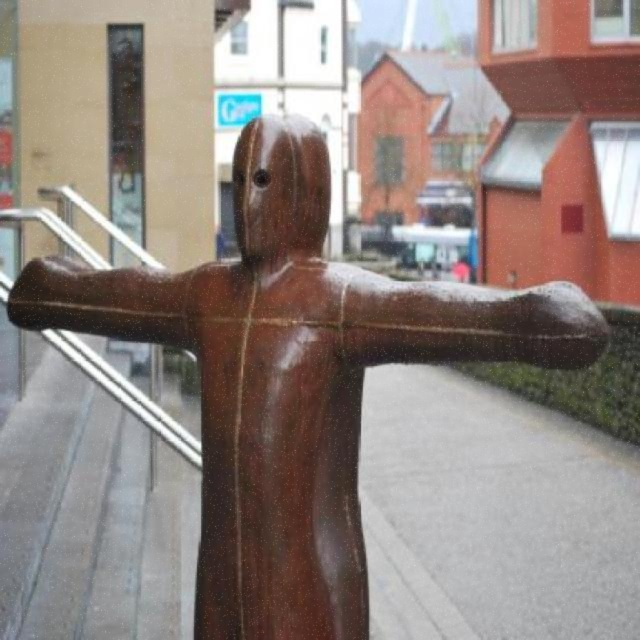stair: (0, 303, 482, 640)
